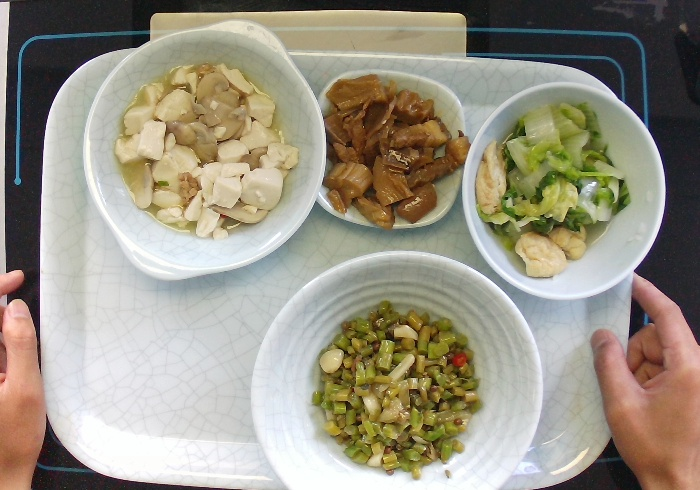JYsf-Fan_Wan: (458, 76, 670, 305)
JYsf-Shuang_Er_Wan: (76, 15, 332, 285)
JYsf-Si_Fang_Die: (311, 65, 472, 234)
JYsf-Xiao_Tang_Wan: (244, 247, 546, 490)
